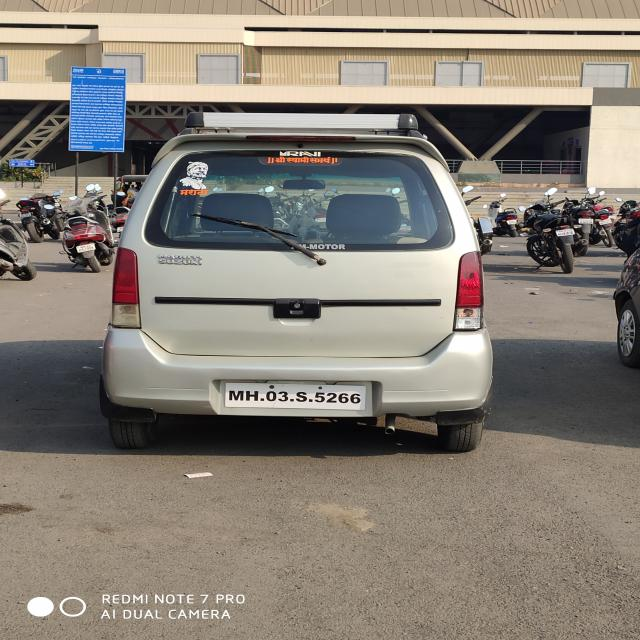Number-Plate: (227, 382, 366, 410)
